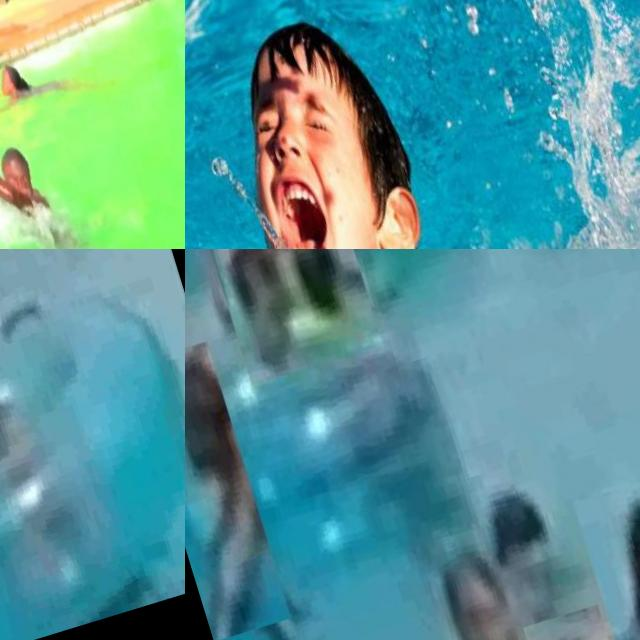drowning: (185, 0, 640, 249), (476, 478, 582, 612)
swimming: (185, 341, 292, 640), (208, 249, 384, 385), (417, 538, 538, 640), (573, 471, 640, 640), (0, 127, 90, 249), (0, 40, 96, 139), (522, 603, 626, 640)
